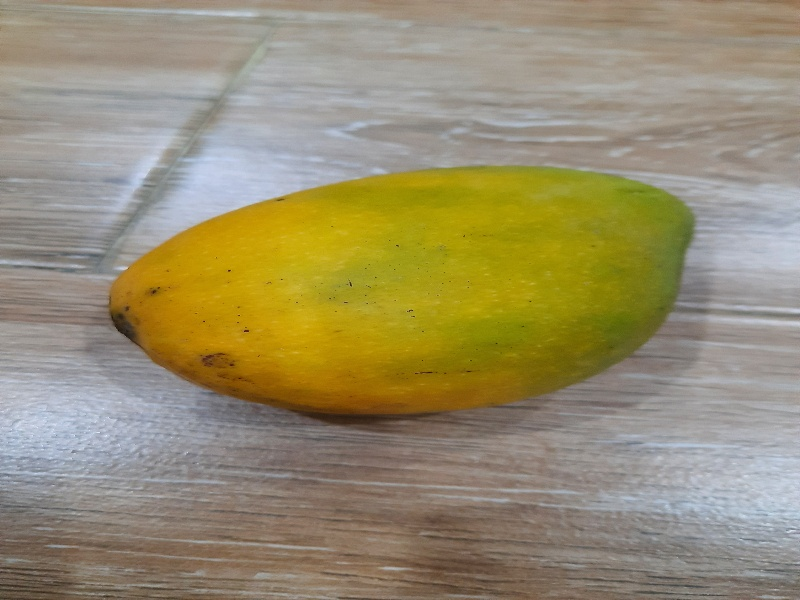fruit: (106, 166, 698, 426)
